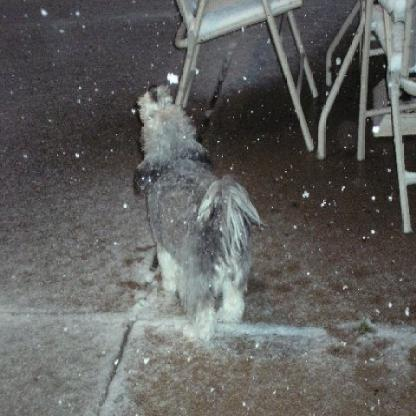chair: (171, 0, 318, 153), (355, 0, 415, 235)
dog: (132, 82, 264, 343)
